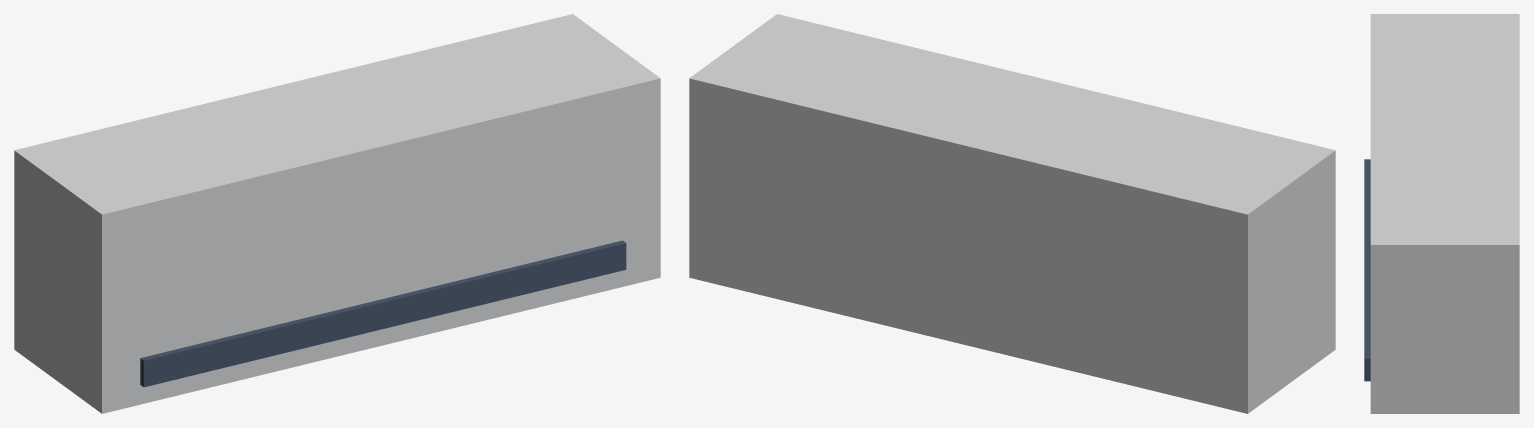
The model's file is equip-mini-split-indoor.glb.
The picture shows the model from 3 angles, left to right: view 1: azimuth 30°, elevation 25°; view 2: azimuth 150°, elevation 25°; view 3: azimuth 270°, elevation 25°; orthographic projection. The views are drawn at different scales.
Visible parts, largest first — view 1: hvac-equipment-mini-split-indoor; view 2: hvac-equipment-mini-split-indoor; view 3: hvac-equipment-mini-split-indoor.
Part boxes in pixels (x1=…): hvac-equipment-mini-split-indoor: x1=14, y1=14, x2=660, y2=413; hvac-equipment-mini-split-indoor: x1=689, y1=14, x2=1335, y2=413; hvac-equipment-mini-split-indoor: x1=1364, y1=14, x2=1519, y2=413.
Bounding box in the file's own units: 0.88 × 0.3 × 0.25.
